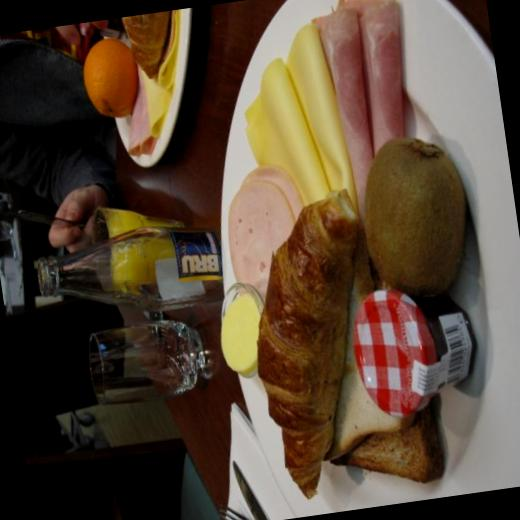Grape: (74, 34, 138, 123)
